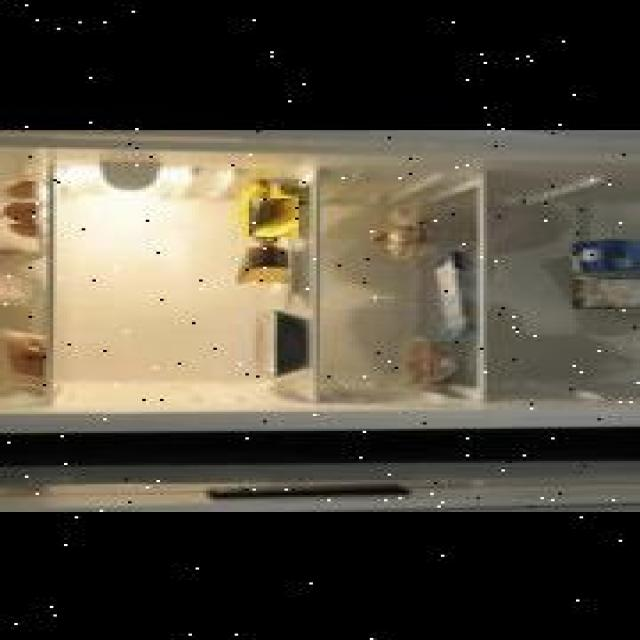banana: (249, 195, 299, 234), (240, 180, 268, 223)
bread: (7, 330, 53, 380)
cheese: (236, 244, 294, 283)
egg: (3, 199, 42, 221), (3, 179, 42, 201), (10, 218, 42, 236)
milk: (562, 237, 640, 269), (572, 278, 640, 308)
